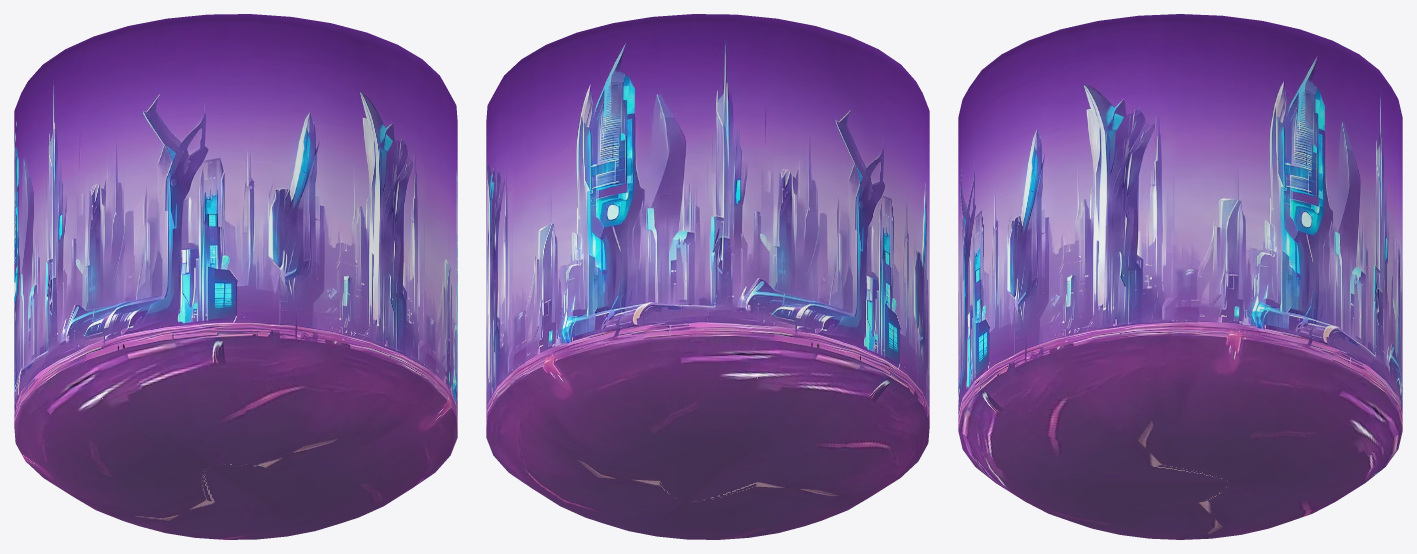
File: futuristic_city_pano.glb
The picture shows the model from 3 angles, left to right: view 1: azimuth 30°, elevation 25°; view 2: azimuth 150°, elevation 25°; view 3: azimuth 270°, elevation 25°; orthographic projection.
Visible parts, largest first — view 1: Object_4; view 2: Object_4; view 3: Object_4.
Part boxes in pixels (<box>): Object_4: <box>14,14,457,539</box>; Object_4: <box>486,14,929,539</box>; Object_4: <box>958,14,1402,539</box>.
Size of the model in its own units: 179 by 174 by 179.
1 material, 1 textured.
